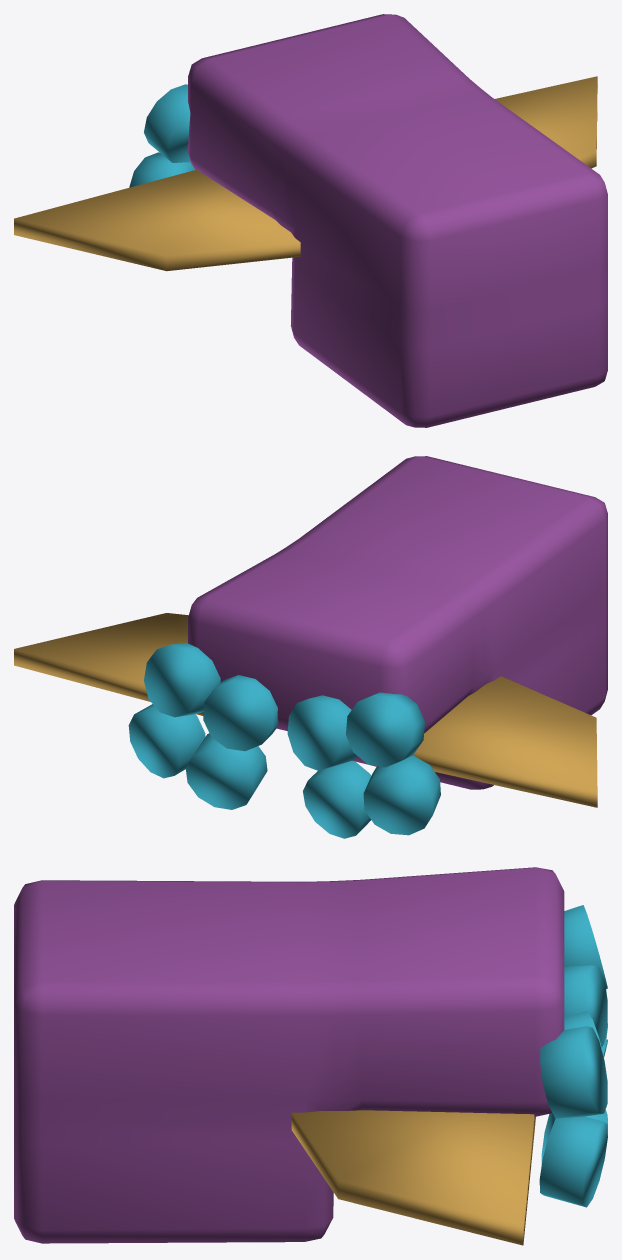
Rendered from ship_32.gltf.
3 views of the same model, one above another, from view 1: azimuth 30°, elevation 25°; view 2: azimuth 150°, elevation 25°; view 3: azimuth 270°, elevation 25° (orthographic). The views are drawn at different scales.
Parts seen in each view (by area): view 1: gtlf; view 2: gtlf; view 3: gtlf.
Part boxes in pixels (x1,y1,x2,y2): gtlf: [14, 14, 607, 427]; gtlf: [14, 456, 607, 838]; gtlf: [14, 867, 607, 1245].
Size of the model in its own units: 1.82 by 0.6613 by 1.31.
